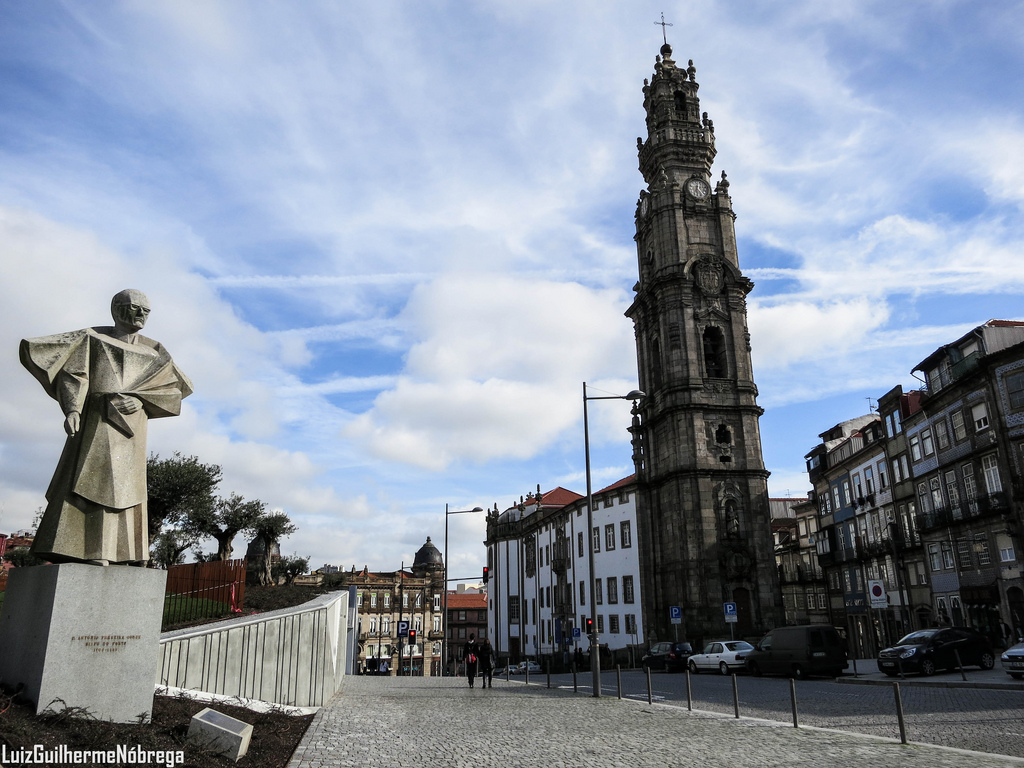clerigos: (629, 12, 788, 653)
